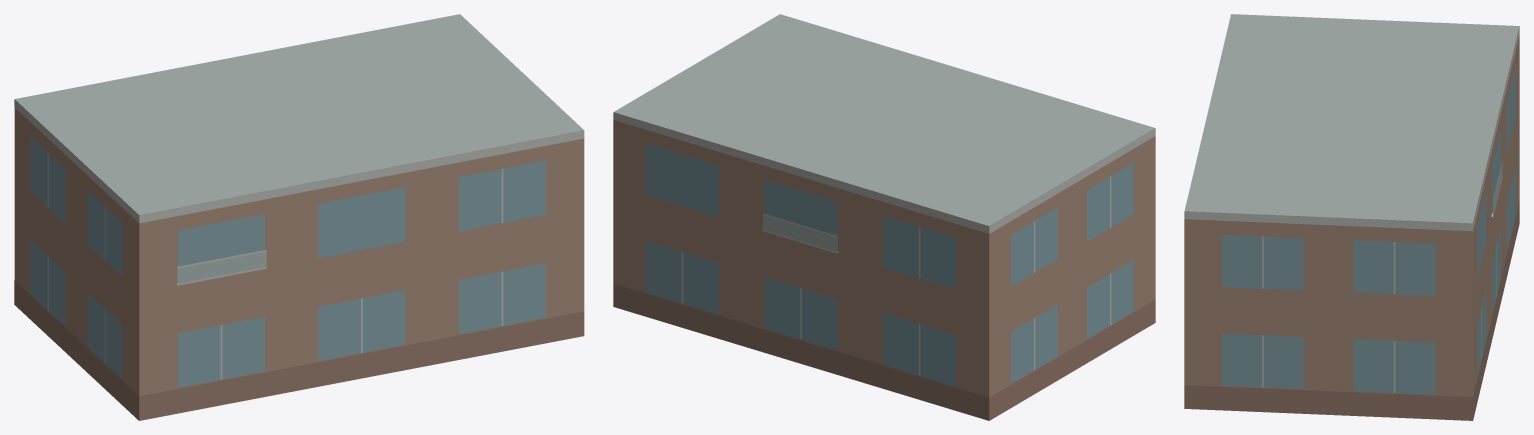
The model's file is survey-upis-32920297.glb.
The picture shows the model from 3 angles, left to right: view 1: azimuth 30°, elevation 25°; view 2: azimuth 150°, elevation 25°; view 3: azimuth 270°, elevation 25°; orthographic projection. The views are drawn at different scales.
Parts seen in each view (by area): view 1: survey-upis-32920297.tmp; view 2: survey-upis-32920297.tmp; view 3: survey-upis-32920297.tmp.
Boxes of the visible parts, left/top/right/bottom form: survey-upis-32920297.tmp: left=14, top=14, right=584, bottom=420; survey-upis-32920297.tmp: left=613, top=14, right=1155, bottom=420; survey-upis-32920297.tmp: left=1184, top=14, right=1519, bottom=420.
Bounding box in the file's own units: 13.88 × 6.1 × 9.39.
